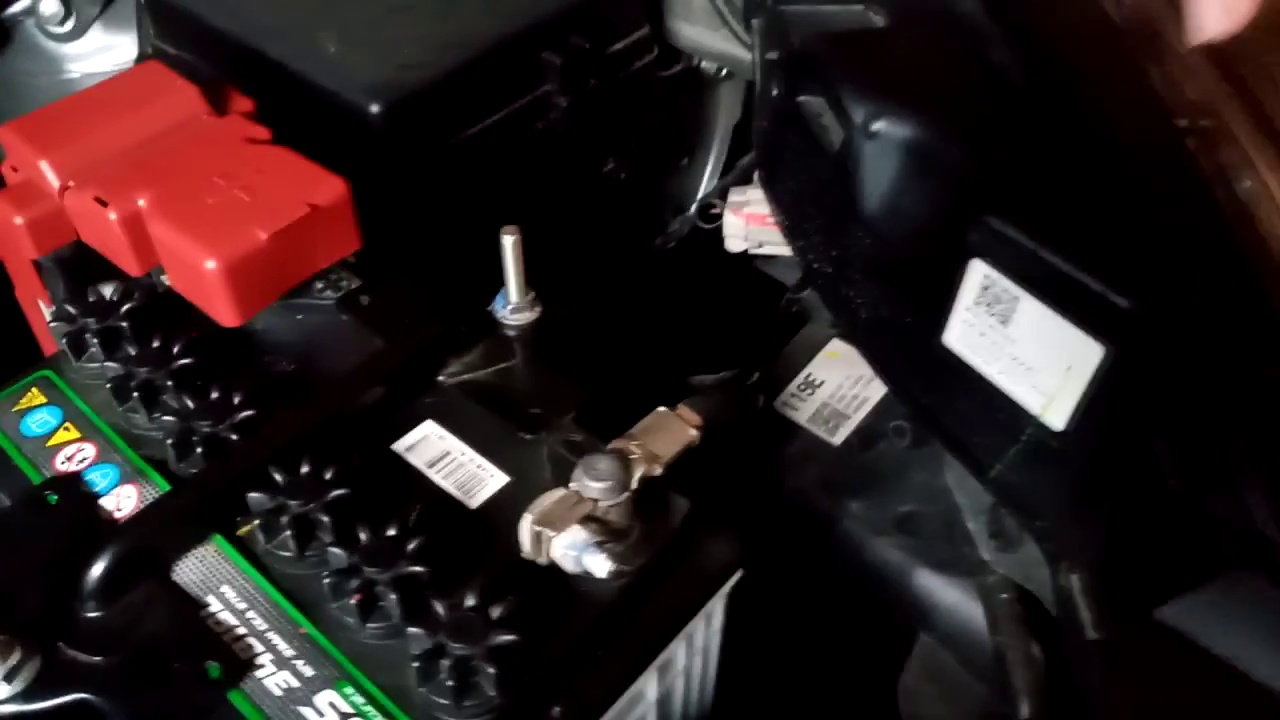battery: (8, 146, 730, 720)
neg_connected: (517, 359, 716, 592)
pos_connected: (12, 78, 382, 366)
